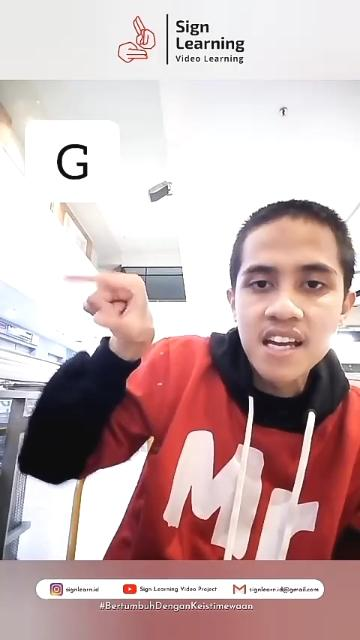G: (54, 268, 168, 348)
